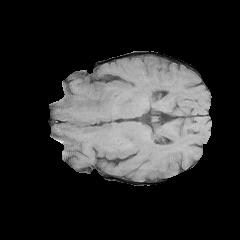glioma: (53, 86, 118, 122)
